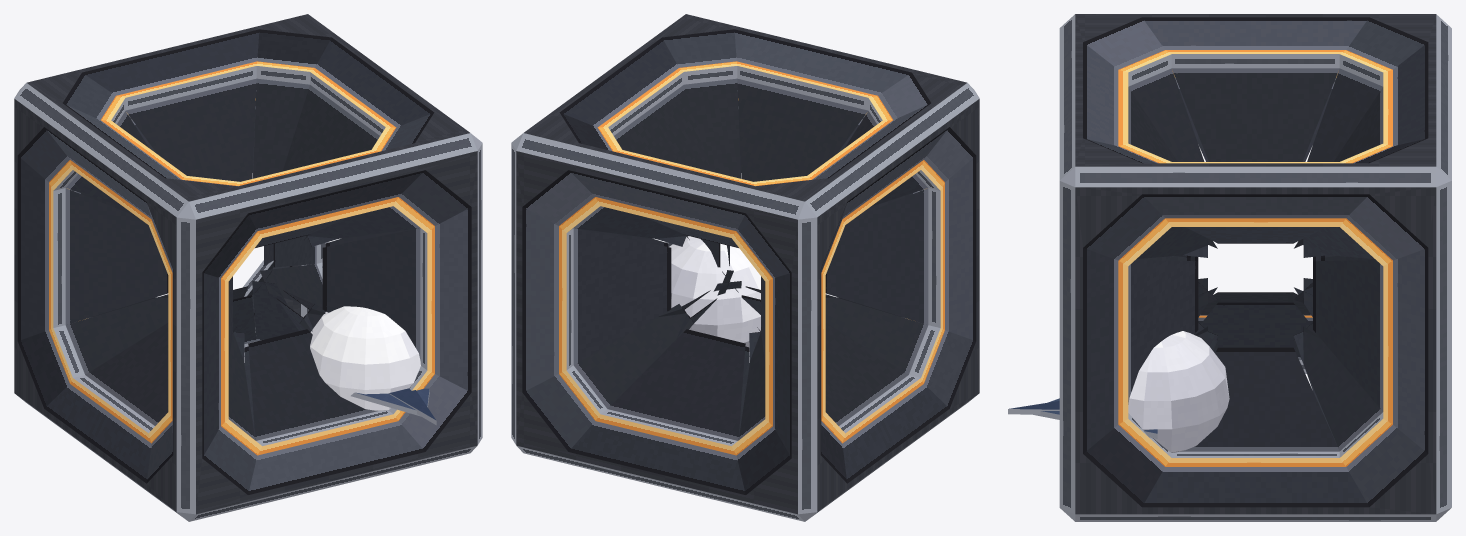
Rendered from marlit_shield.glb.
3 renders of one model, left to right at view 1: azimuth 30°, elevation 25°; view 2: azimuth 150°, elevation 25°; view 3: azimuth 270°, elevation 25°, orthographic. The views are drawn at different scales.
Visible parts, largest first — view 1: marlit_shield_body, marlit_shield_core, marlit_shield_leaf_flat, marlit_shield_leaf_corner; view 2: marlit_shield_body, marlit_shield_core; view 3: marlit_shield_body, marlit_shield_core.
Boxes of the visible parts, box(x1,y1,x2,y2) form: marlit_shield_body: box(14, 14, 482, 521); marlit_shield_core: box(310, 306, 420, 410); marlit_shield_leaf_flat: box(351, 388, 429, 416); marlit_shield_leaf_corner: box(388, 388, 436, 425); marlit_shield_body: box(511, 14, 979, 521); marlit_shield_core: box(669, 236, 760, 352); marlit_shield_body: box(1059, 14, 1451, 521); marlit_shield_core: box(1128, 331, 1229, 452).
Bounding box in the file's own units: 2 × 2 × 2.26.
1 material, 1 textured.
